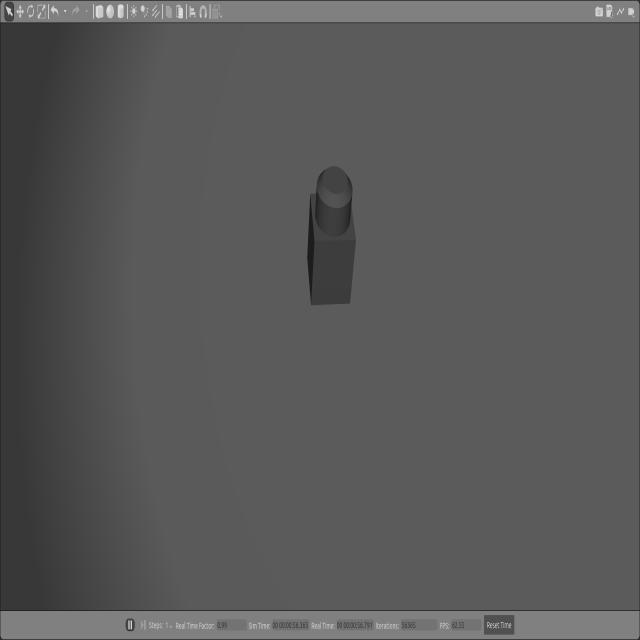block1: (307, 166, 355, 305)
